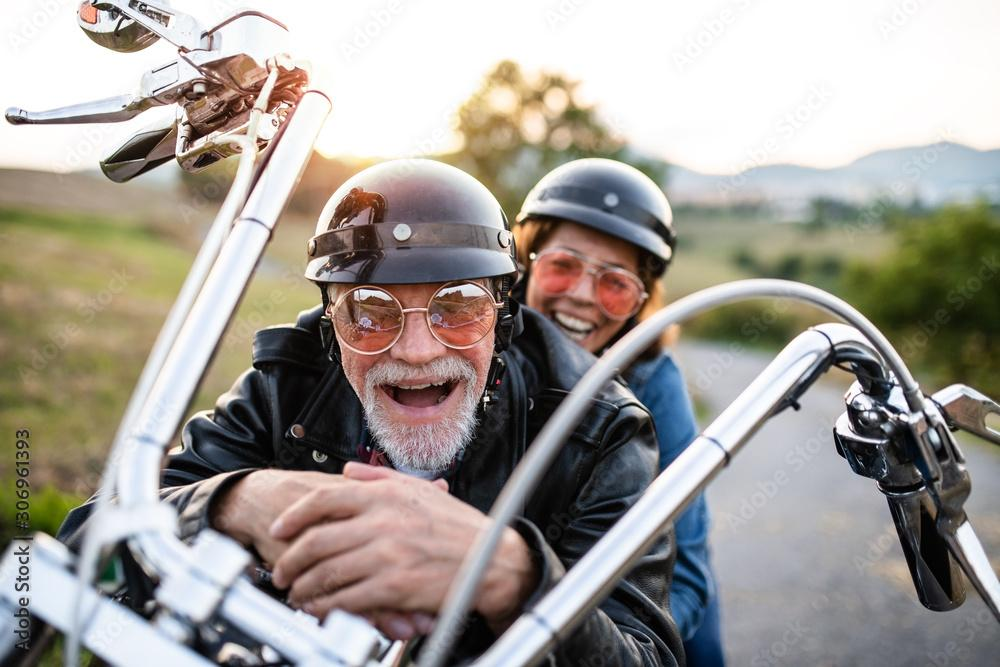helmet: (303, 155, 521, 478), (514, 155, 679, 376)
